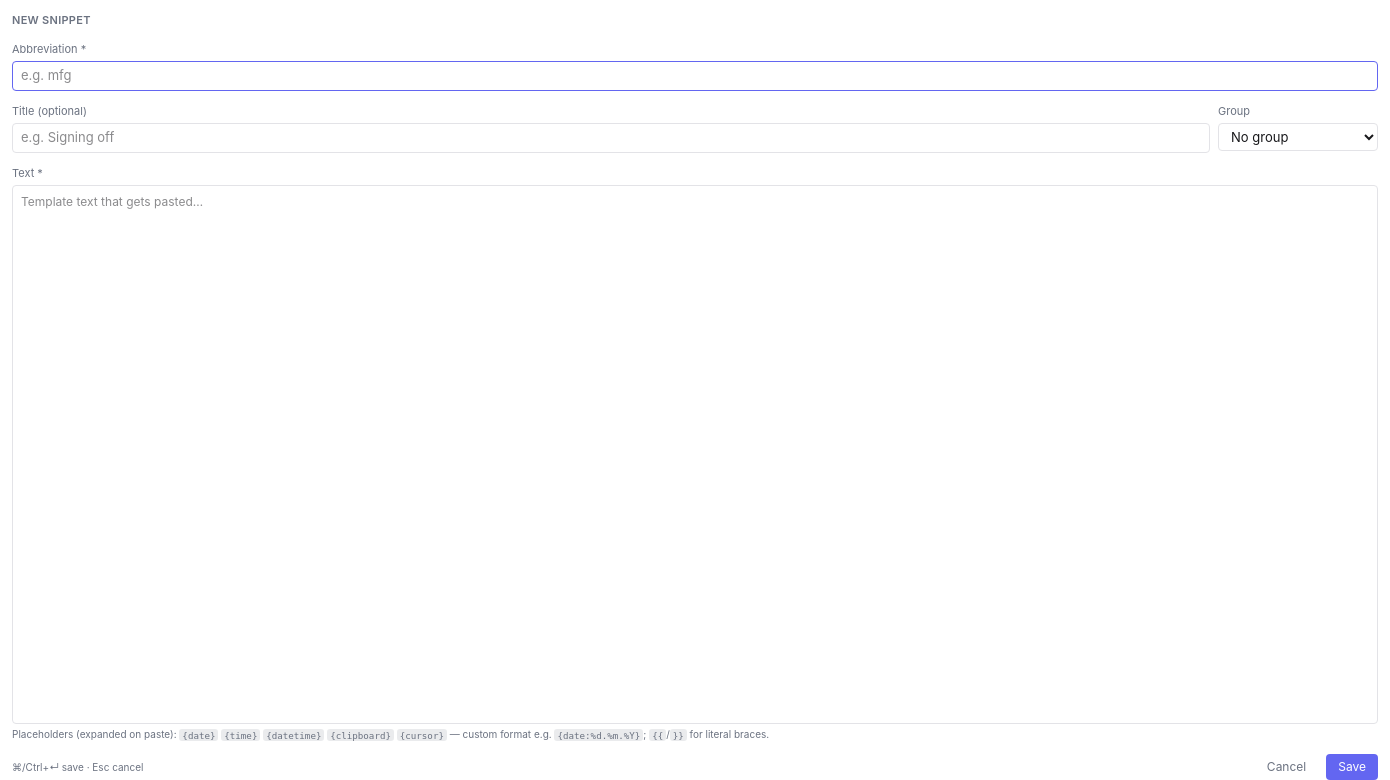
SnippetEditor — validation › refuses to save without an abbreviation and says so
The image size is (1390, 780).
Type "some body" into the text box with placeholder "Template text that gets pasted…" at (695, 455), box [12, 185, 1378, 724]
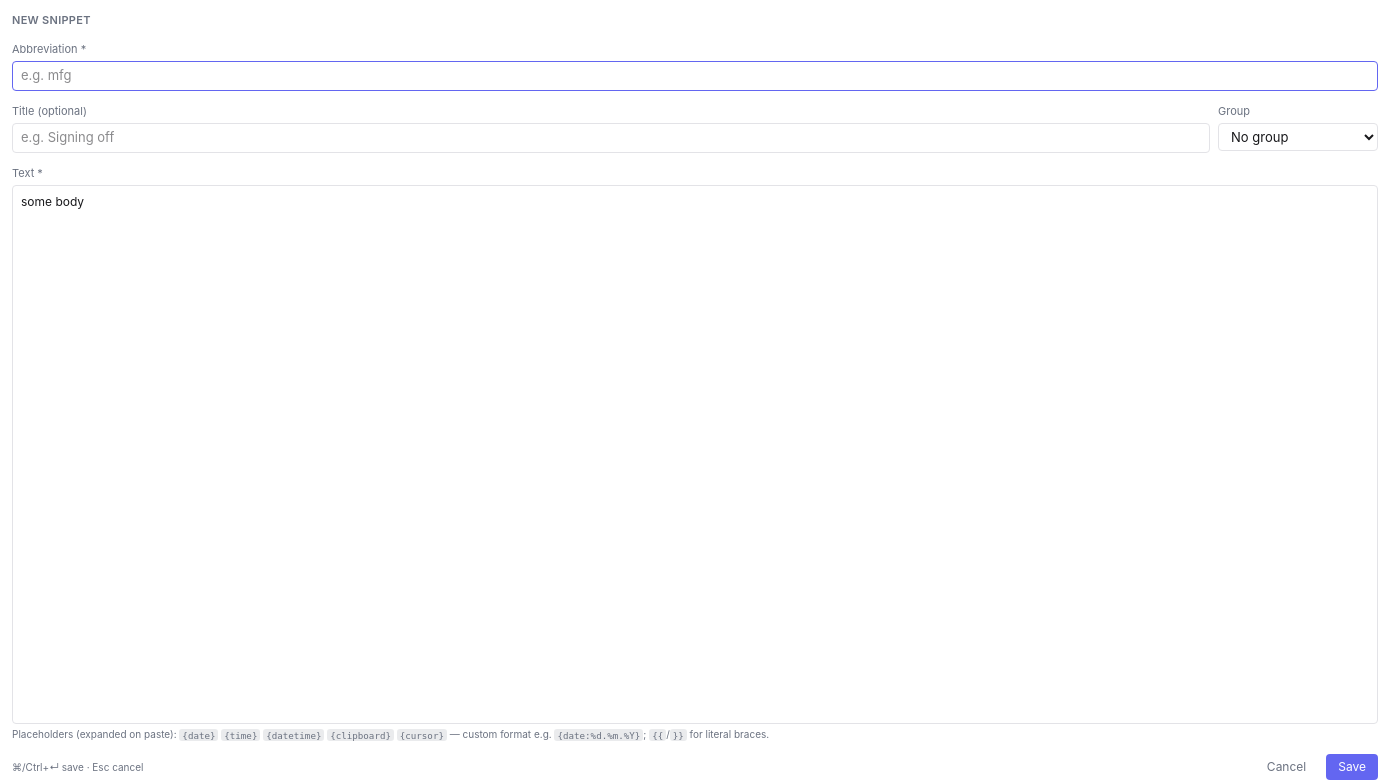
Click the button "Save" at (1352, 767), box [1326, 754, 1378, 779]
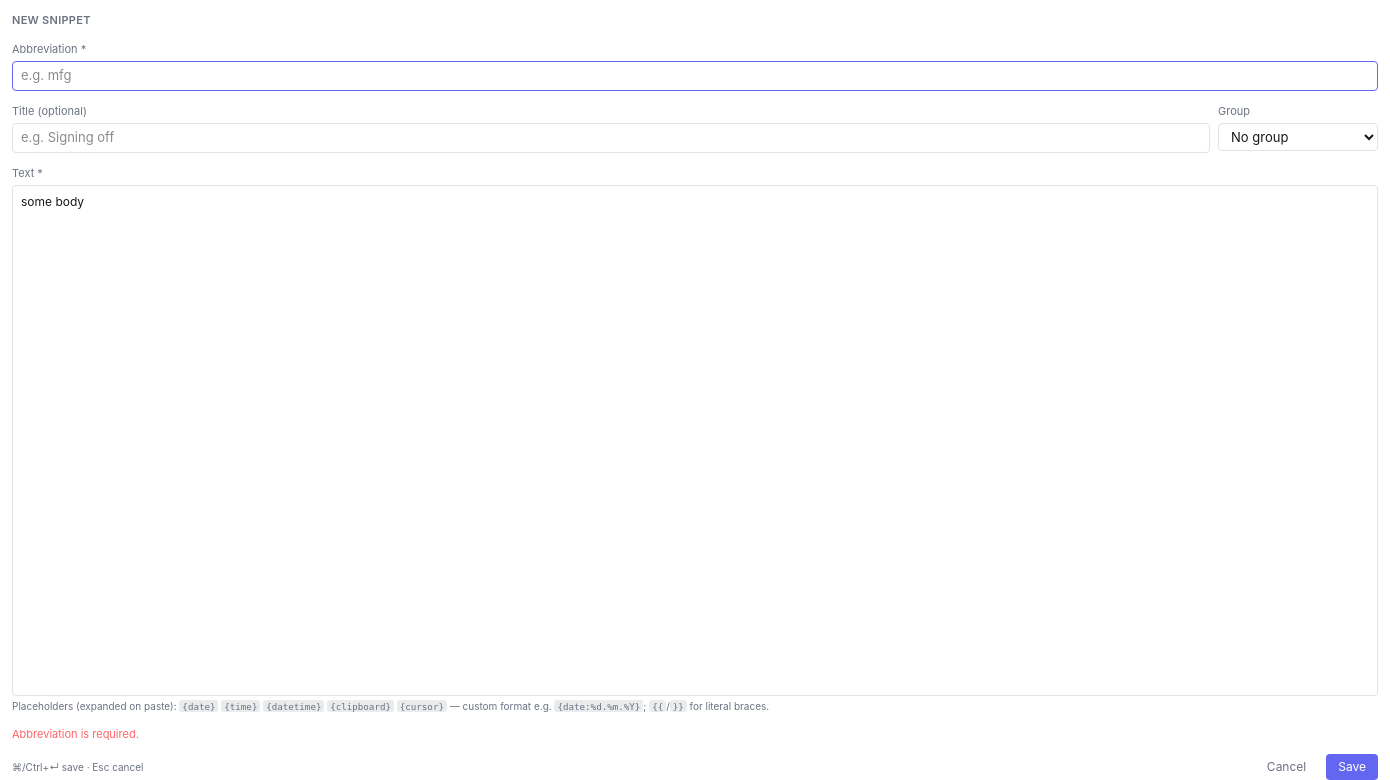
Expected: the text "Abbreviation is required." is shown, [12, 726, 139, 740]
